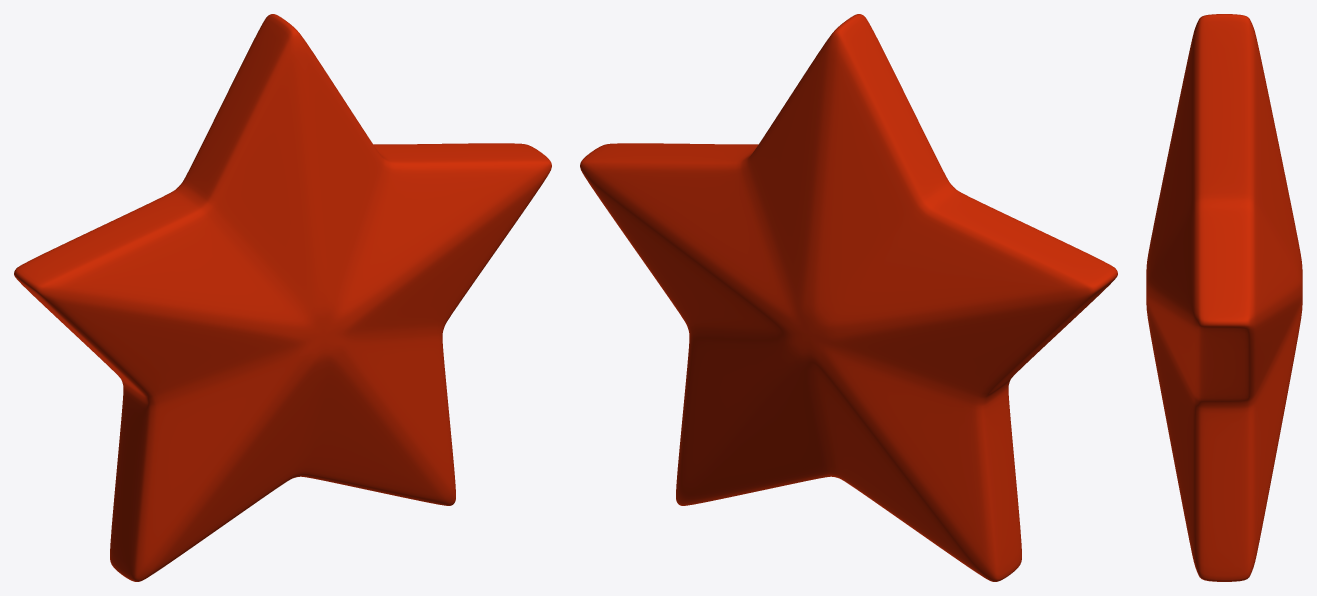
The model's file is star.obj.
3 renders of one model, left to right at view 1: azimuth 30°, elevation 25°; view 2: azimuth 150°, elevation 25°; view 3: azimuth 270°, elevation 25°, orthographic. The views are drawn at different scales.
Parts seen in each view (by area): view 1: Cylinder; view 2: Cylinder; view 3: Cylinder.
Boxes of the visible parts, <box> form: Cylinder: <box>14,14,551,581</box>; Cylinder: <box>580,14,1117,581</box>; Cylinder: <box>1146,14,1302,581</box>.
Size of the model in its own units: 1.86 by 1.77 by 0.5087.
